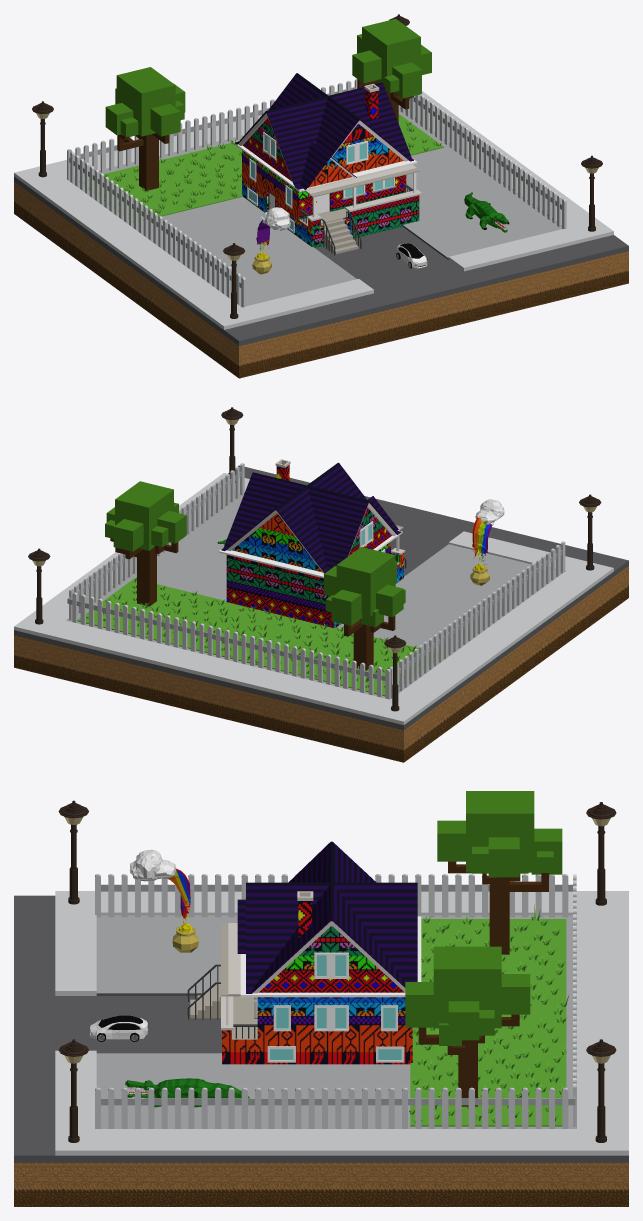
3 views of the same model, one above another, from view 1: azimuth 30°, elevation 25°; view 2: azimuth 150°, elevation 25°; view 3: azimuth 270°, elevation 25° (orthographic). The views are drawn at different scales.
Visible parts, largest first — view 1: Cube.004, Cube.966, OBJRANDOM_RAINBOW, ANIMAL_COCODRILO, VEHICLES_TESLA; view 2: Cube.004, Cube.966, OBJRANDOM_RAINBOW; view 3: Cube.004, Cube.966, OBJRANDOM_RAINBOW, ANIMAL_COCODRILO, VEHICLES_TESLA.
Boxes of the visible parts, x1,y1,x2,y2 form: Cube.004: (14,14,628,378); Cube.966: (233,73,422,255); OBJRANDOM_RAINBOW: (252,207,290,274); ANIMAL_COCODRILO: (464,192,509,232); VEHICLES_TESLA: (396,243,427,268); Cube.004: (14,407,628,762); Cube.966: (218,459,406,627); OBJRANDOM_RAINBOW: (470,499,504,585); Cube.004: (14,791,628,1206); Cube.966: (187,841,421,1064); OBJRANDOM_RAINBOW: (129,849,198,952); ANIMAL_COCODRILO: (125,1078,249,1107); VEHICLES_TESLA: (90,1015,148,1041).
Bounding box in the file's own units: 4000 × 1702 × 4000.
Materials: 41 (7 with a texture image).
